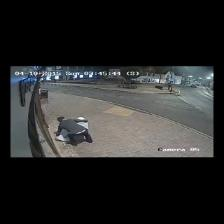person: (56, 117, 92, 142)
